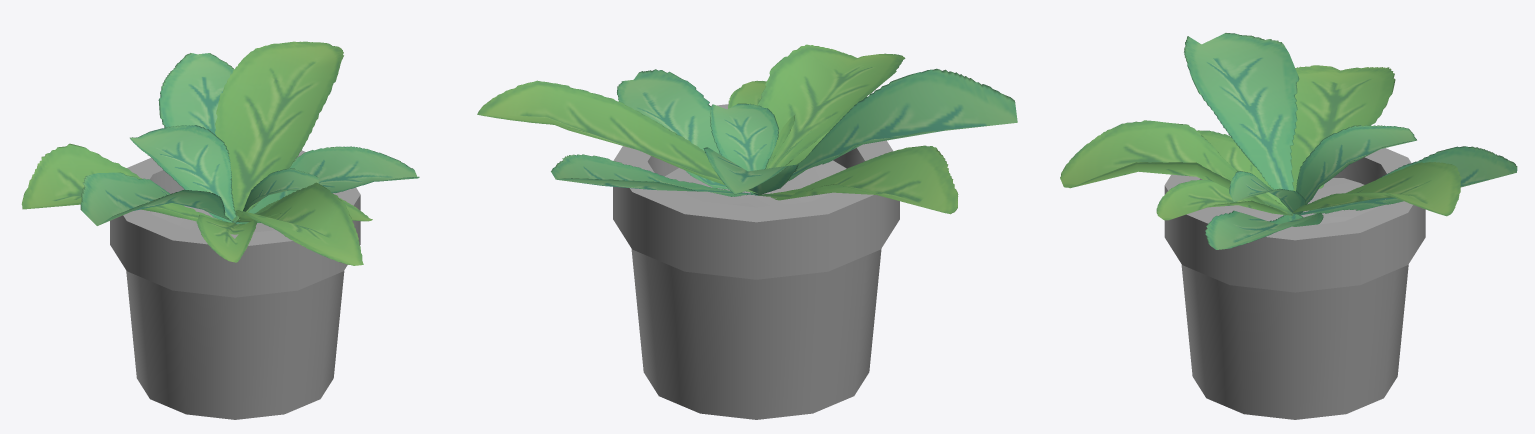
The model's file is Plant 2.fbx.
3 views of the same model, side by side, from view 1: azimuth 30°, elevation 25°; view 2: azimuth 150°, elevation 25°; view 3: azimuth 270°, elevation 25° (orthographic). The views are drawn at different scales.
Visible parts, largest first — view 1: pasted__pCylinder1, pasted__pPlane3, pPlane3, pasted__pPlane5, pasted__pPlane4, pasted__pasted__pPlane4, pasted__pasted__pasted__pPlane4, pasted__pasted__pPlane3, pasted__pasted__pPlane10, pasted__pasted__pPlane8, pasted__pasted__pPlane6, pasted__pasted__pPlane9 (+8 smaller); view 2: pasted__pCylinder1, pasted__pasted__pPlane4, pPlane3, pasted__pPlane3, pasted__pPlane4, pasted__pasted__pPlane3, pasted__pasted__pPlane5, pasted__pasted__pasted__pPlane4, pasted__pasted__pasted__pPlane7, pasted__pPlane2, pasted__pasted__pPlane10, pasted__pPlane5 (+6 smaller); view 3: pasted__pCylinder1, pasted__pasted__pPlane4, pPlane3, pasted__pPlane4, pasted__pPlane3, pasted__pPlane5, pasted__pasted__pasted__pPlane7, pasted__pasted__pasted__pPlane4, pasted__pasted__pPlane3, pasted__pPlane6, pasted__pasted__pPlane9, pasted__pPlane2 (+7 smaller).
Boxes of the visible parts, box(x1,y1,x2,y2) form: pasted__pCylinder1: box(110, 150, 360, 419); pasted__pPlane3: box(215, 41, 343, 222); pPlane3: box(236, 182, 363, 265); pasted__pPlane5: box(130, 125, 236, 222); pasted__pPlane4: box(21, 143, 225, 221); pasted__pasted__pPlane4: box(80, 172, 233, 225); pasted__pasted__pasted__pPlane4: box(158, 53, 234, 134); pasted__pasted__pPlane3: box(234, 146, 419, 223); pasted__pasted__pPlane10: box(215, 41, 343, 222); pasted__pasted__pPlane8: box(131, 125, 236, 221); pasted__pasted__pPlane6: box(196, 214, 256, 262); pasted__pasted__pPlane9: box(25, 144, 220, 220); pasted__pCylinder1: box(613, 104, 899, 419); pasted__pasted__pPlane4: box(757, 68, 1017, 194); pPlane3: box(757, 44, 905, 168); pasted__pPlane3: box(477, 80, 757, 193); pasted__pPlane4: box(758, 145, 958, 214); pasted__pasted__pPlane3: box(617, 69, 751, 192); pasted__pasted__pPlane5: box(710, 103, 778, 195); pasted__pasted__pasted__pPlane4: box(551, 154, 754, 196); pasted__pasted__pasted__pPlane7: box(789, 71, 1016, 180); pasted__pPlane2: box(665, 160, 846, 207); pasted__pasted__pPlane10: box(477, 81, 748, 191); pasted__pPlane5: box(703, 147, 798, 194); pasted__pCylinder1: box(1164, 148, 1425, 419); pasted__pasted__pPlane4: box(1184, 33, 1299, 190); pPlane3: box(1060, 120, 1293, 215); pasted__pPlane4: box(1290, 65, 1395, 191); pasted__pPlane3: box(1292, 162, 1461, 215); pasted__pPlane5: box(1296, 125, 1416, 204); pasted__pasted__pasted__pPlane7: box(1184, 33, 1297, 189); pasted__pasted__pasted__pPlane4: box(1299, 146, 1517, 215); pasted__pasted__pPlane3: box(1205, 210, 1323, 249); pasted__pPlane6: box(1156, 180, 1292, 220); pasted__pasted__pPlane9: box(1291, 65, 1394, 190); pasted__pPlane2: box(1212, 178, 1380, 224).
Size of the model in its own units: 8.29 by 5.27 by 8.18.
